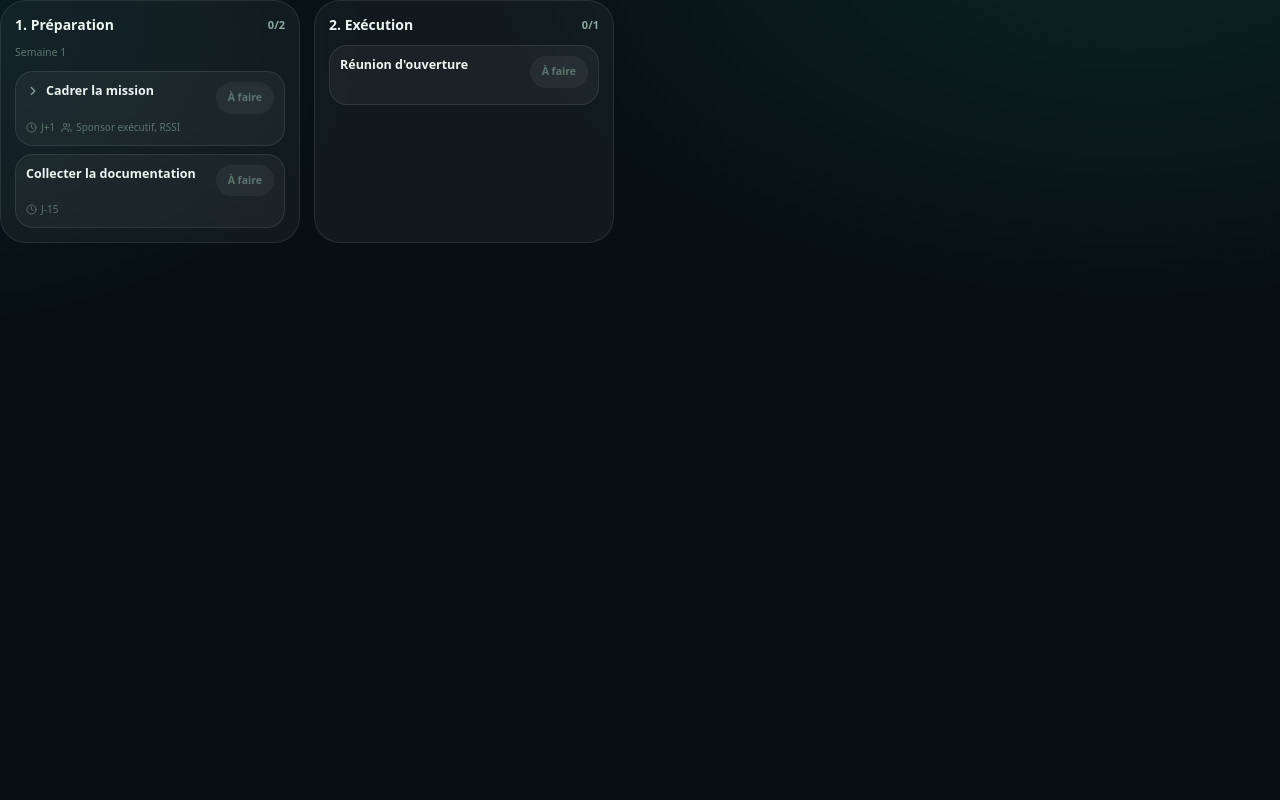
PhaseKanban › le champ booléen respecte la valeur fournie sans la réinventer
The image size is (1280, 800).
Click the button "Cadrer la mission": (117, 90) [26, 82, 208, 99]
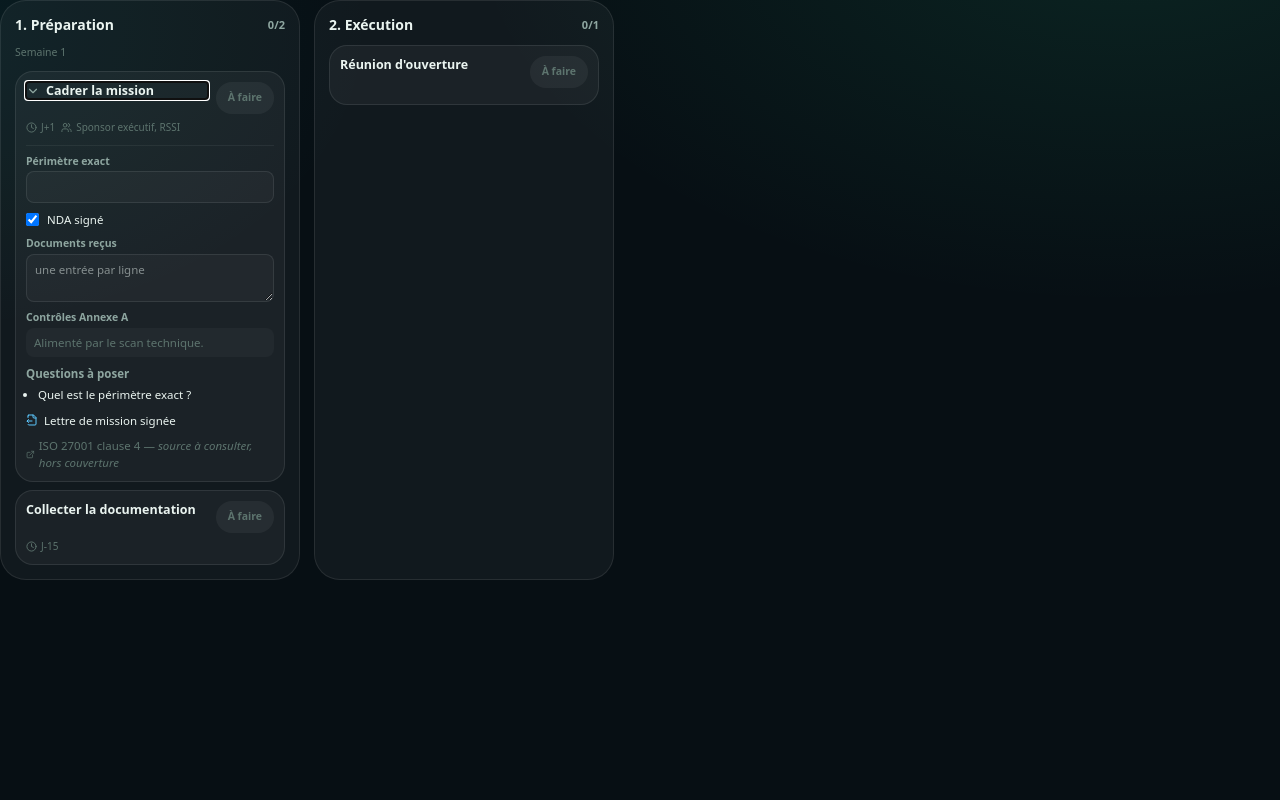
Result: the checkbox labelled "NDA signé" is checked at [26, 213, 39, 226]
